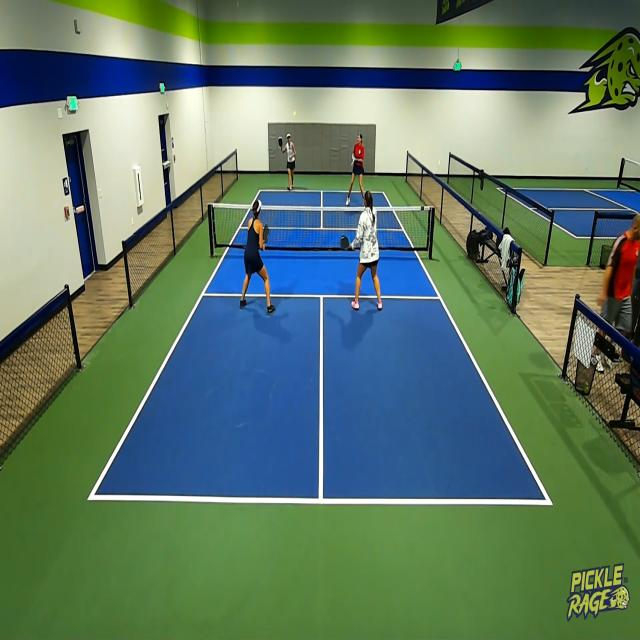Pickleball: (292, 111, 296, 119)
